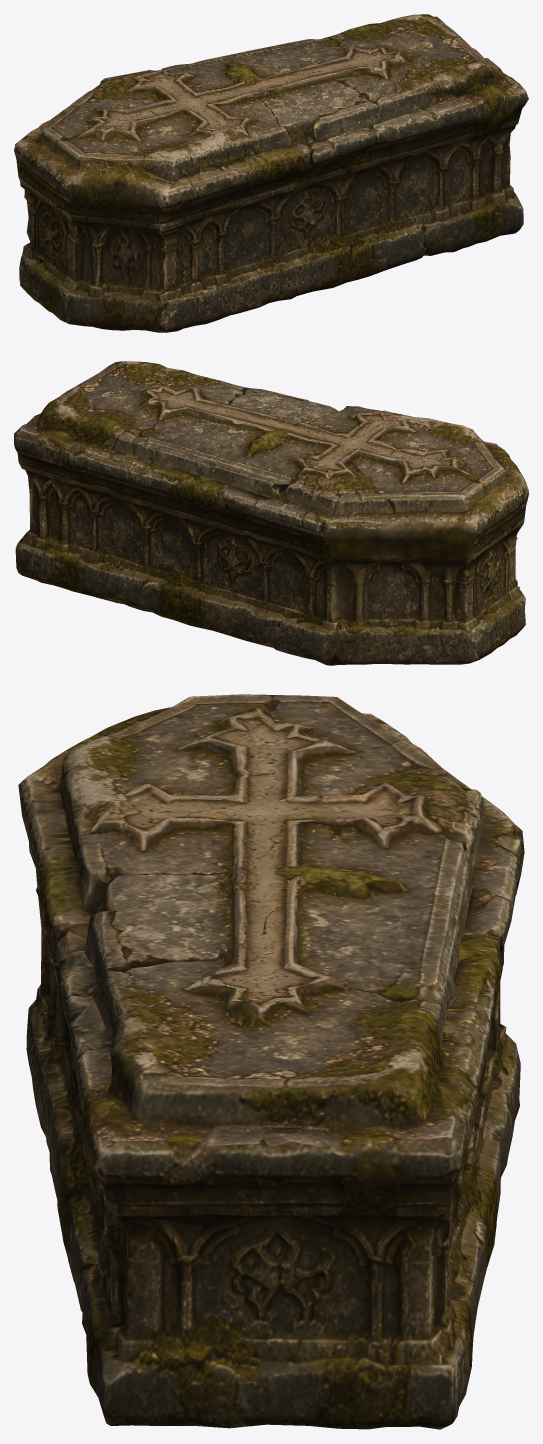
File: Coffin.fbx
3 renders of one model, top to bottom at view 1: azimuth 30°, elevation 25°; view 2: azimuth 150°, elevation 25°; view 3: azimuth 270°, elevation 25°, orthographic. The views are drawn at different scales.
Visible parts, largest first — view 1: texture_mapping; view 2: texture_mapping; view 3: texture_mapping.
Part boxes in pixels (left/top/right/bottom): texture_mapping: left=14, top=14, right=528, bottom=332; texture_mapping: left=14, top=361, right=528, bottom=665; texture_mapping: left=18, top=694, right=524, bottom=1429.
Bounding box in the file's own units: 99.32 × 37.24 × 48.84.
1 material, 1 textured.
